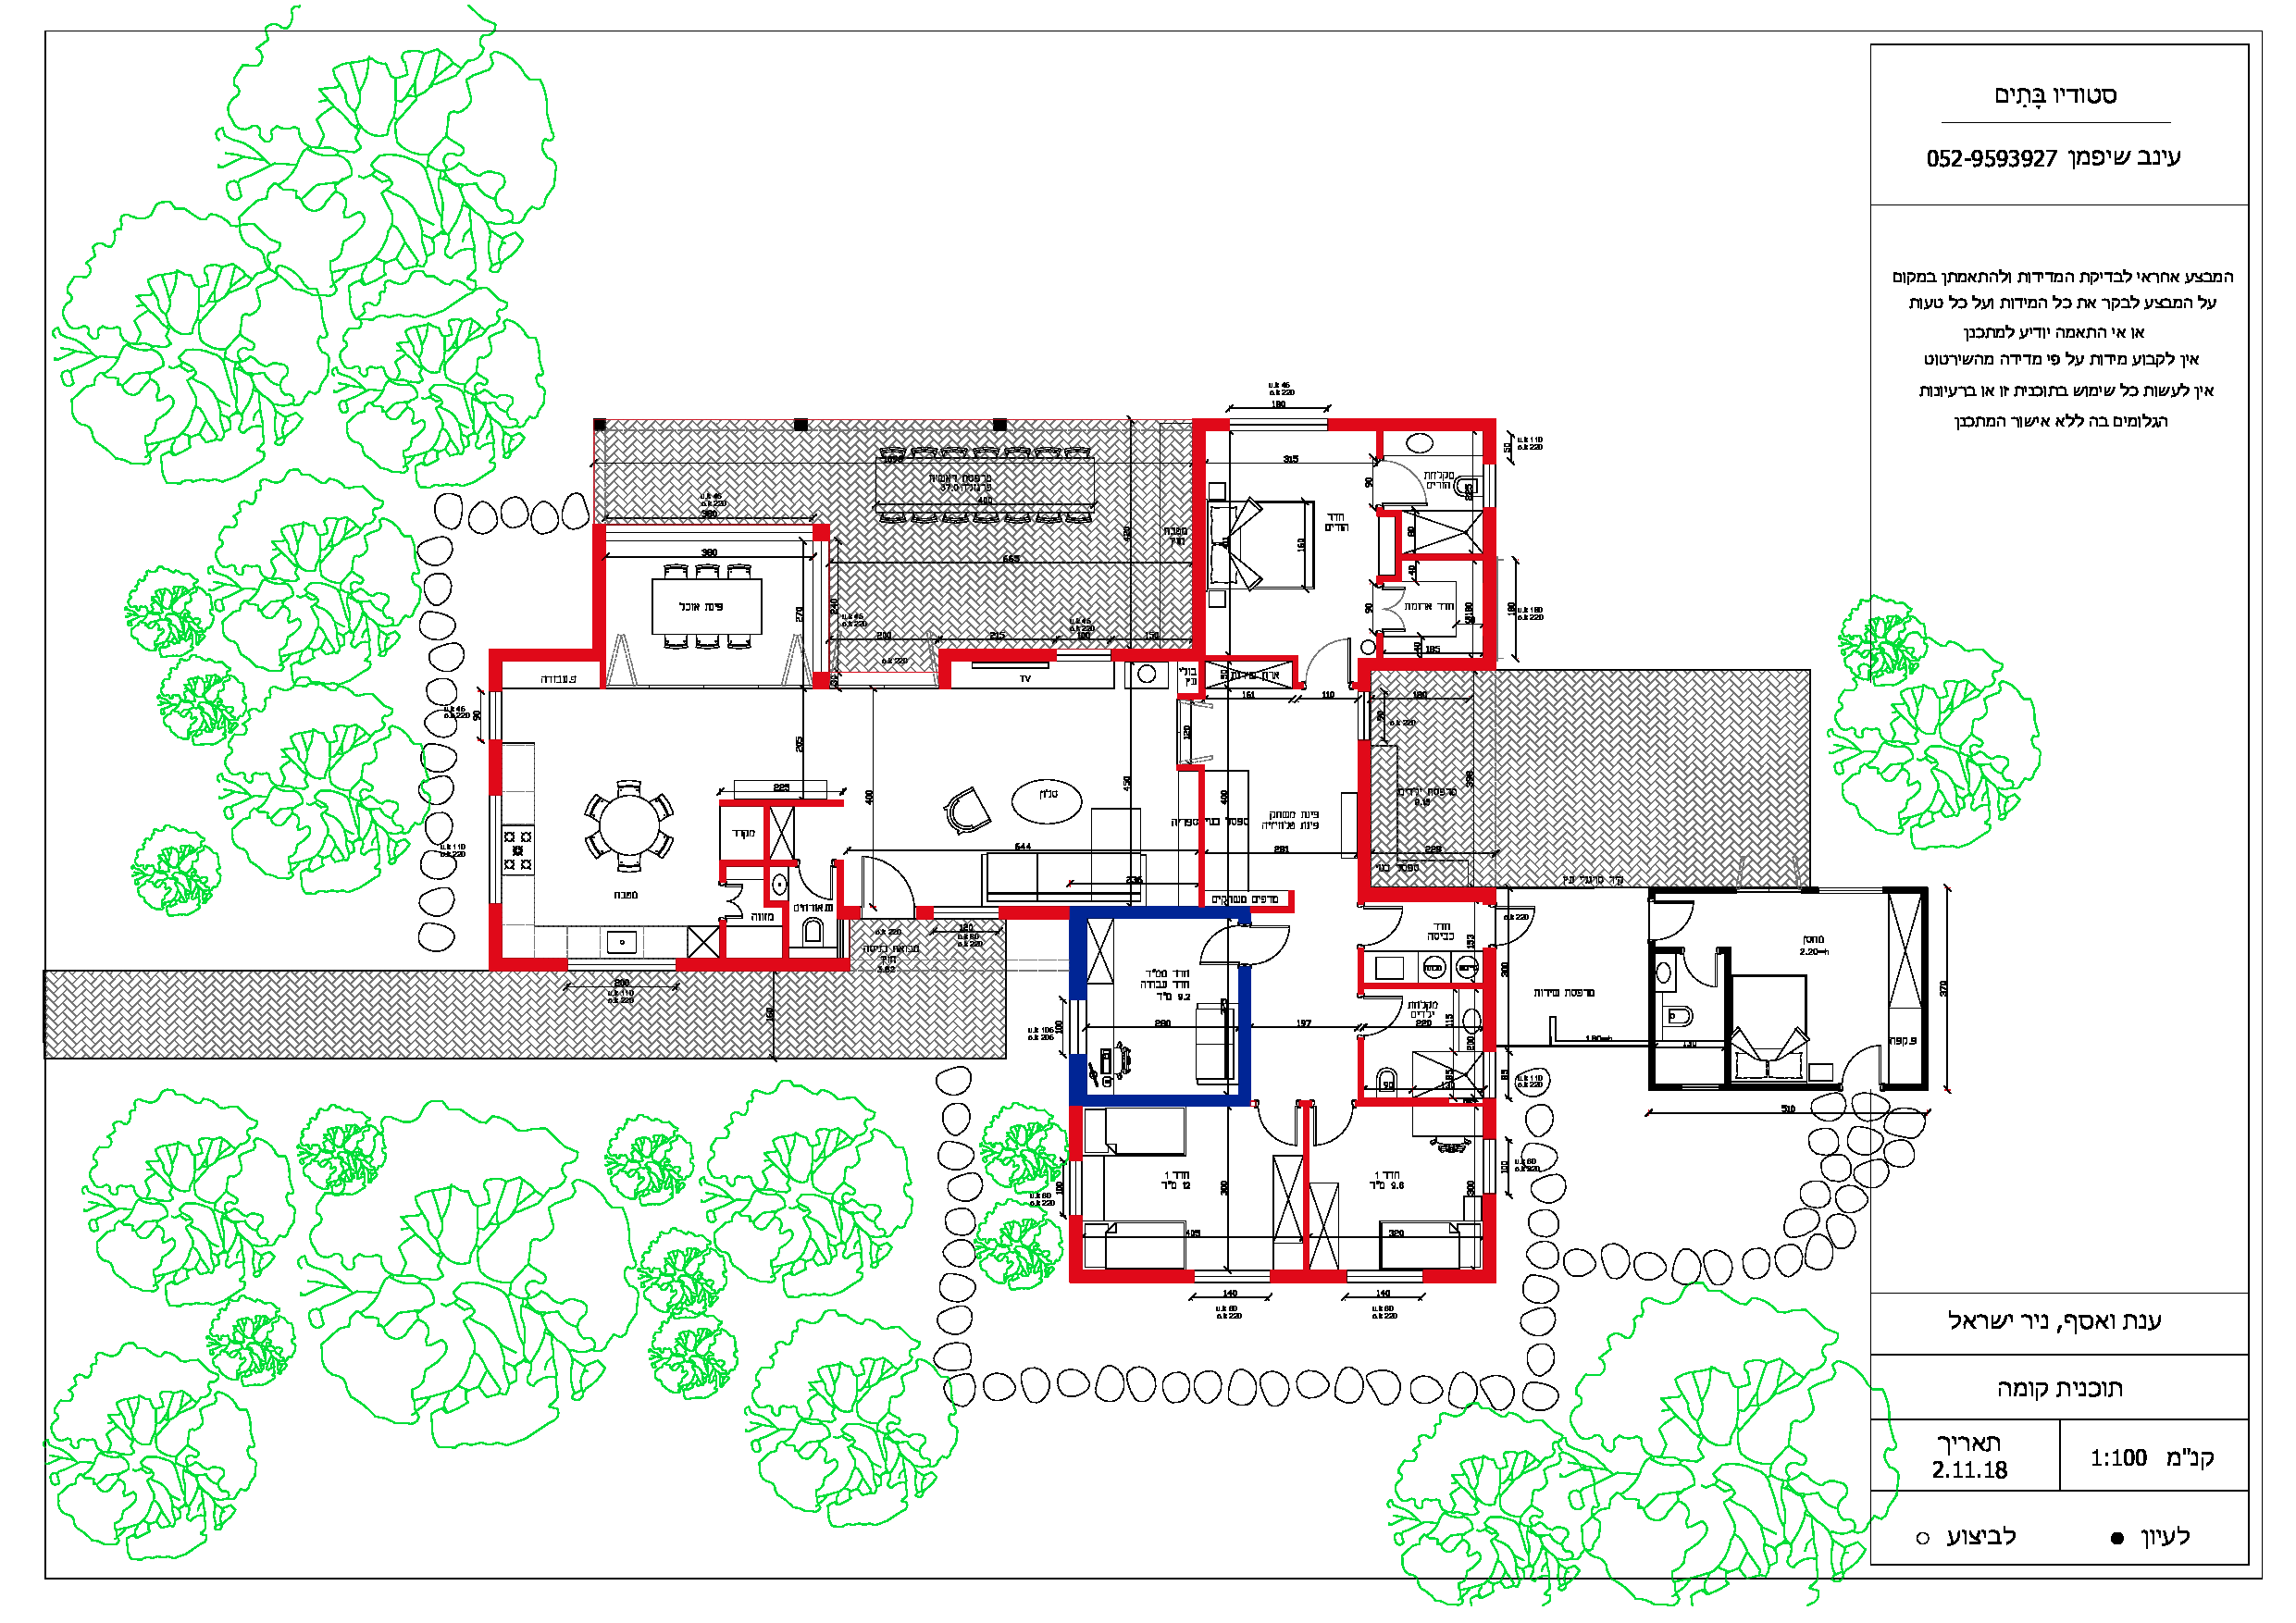door: (857, 855, 921, 899), (1300, 627, 1354, 674), (1388, 455, 1435, 506), (1367, 991, 1407, 1049), (1658, 899, 1700, 954), (1367, 901, 1411, 952), (1838, 1035, 1883, 1082), (1310, 1107, 1361, 1149), (1253, 922, 1293, 971), (1500, 905, 1539, 952), (1256, 1110, 1300, 1151), (1383, 585, 1418, 632), (1679, 952, 1718, 992), (1198, 926, 1233, 968), (798, 869, 836, 903), (727, 884, 747, 922), (834, 917, 847, 961)
wall: (1193, 420, 1205, 657), (682, 959, 843, 970), (1484, 511, 1495, 657), (1075, 908, 1240, 917), (1360, 659, 1491, 669), (1332, 420, 1488, 429), (1072, 1096, 1242, 1103), (594, 525, 603, 659), (1070, 908, 1084, 991), (1240, 975, 1249, 1105), (492, 650, 601, 659), (942, 650, 1047, 659), (494, 959, 560, 971), (1117, 650, 1193, 660), (1198, 768, 1203, 905), (718, 801, 841, 806), (1070, 1057, 1084, 1100), (764, 803, 769, 906), (490, 906, 499, 968), (1398, 555, 1493, 560), (722, 859, 791, 866), (490, 741, 499, 787), (1397, 513, 1402, 580), (490, 652, 499, 689), (838, 861, 843, 917), (783, 903, 789, 957), (940, 652, 947, 687), (720, 924, 726, 964), (1196, 420, 1224, 427), (1254, 908, 1291, 913), (1289, 892, 1293, 912)
window: (1228, 411, 1330, 437), (485, 792, 508, 905), (1191, 1263, 1274, 1289), (1061, 998, 1096, 1057), (1344, 1265, 1425, 1288), (929, 901, 1007, 924), (1063, 1156, 1089, 1219), (1477, 460, 1505, 509), (1051, 645, 1114, 664), (1481, 1136, 1498, 1198), (1481, 1047, 1500, 1101), (487, 689, 504, 741)
